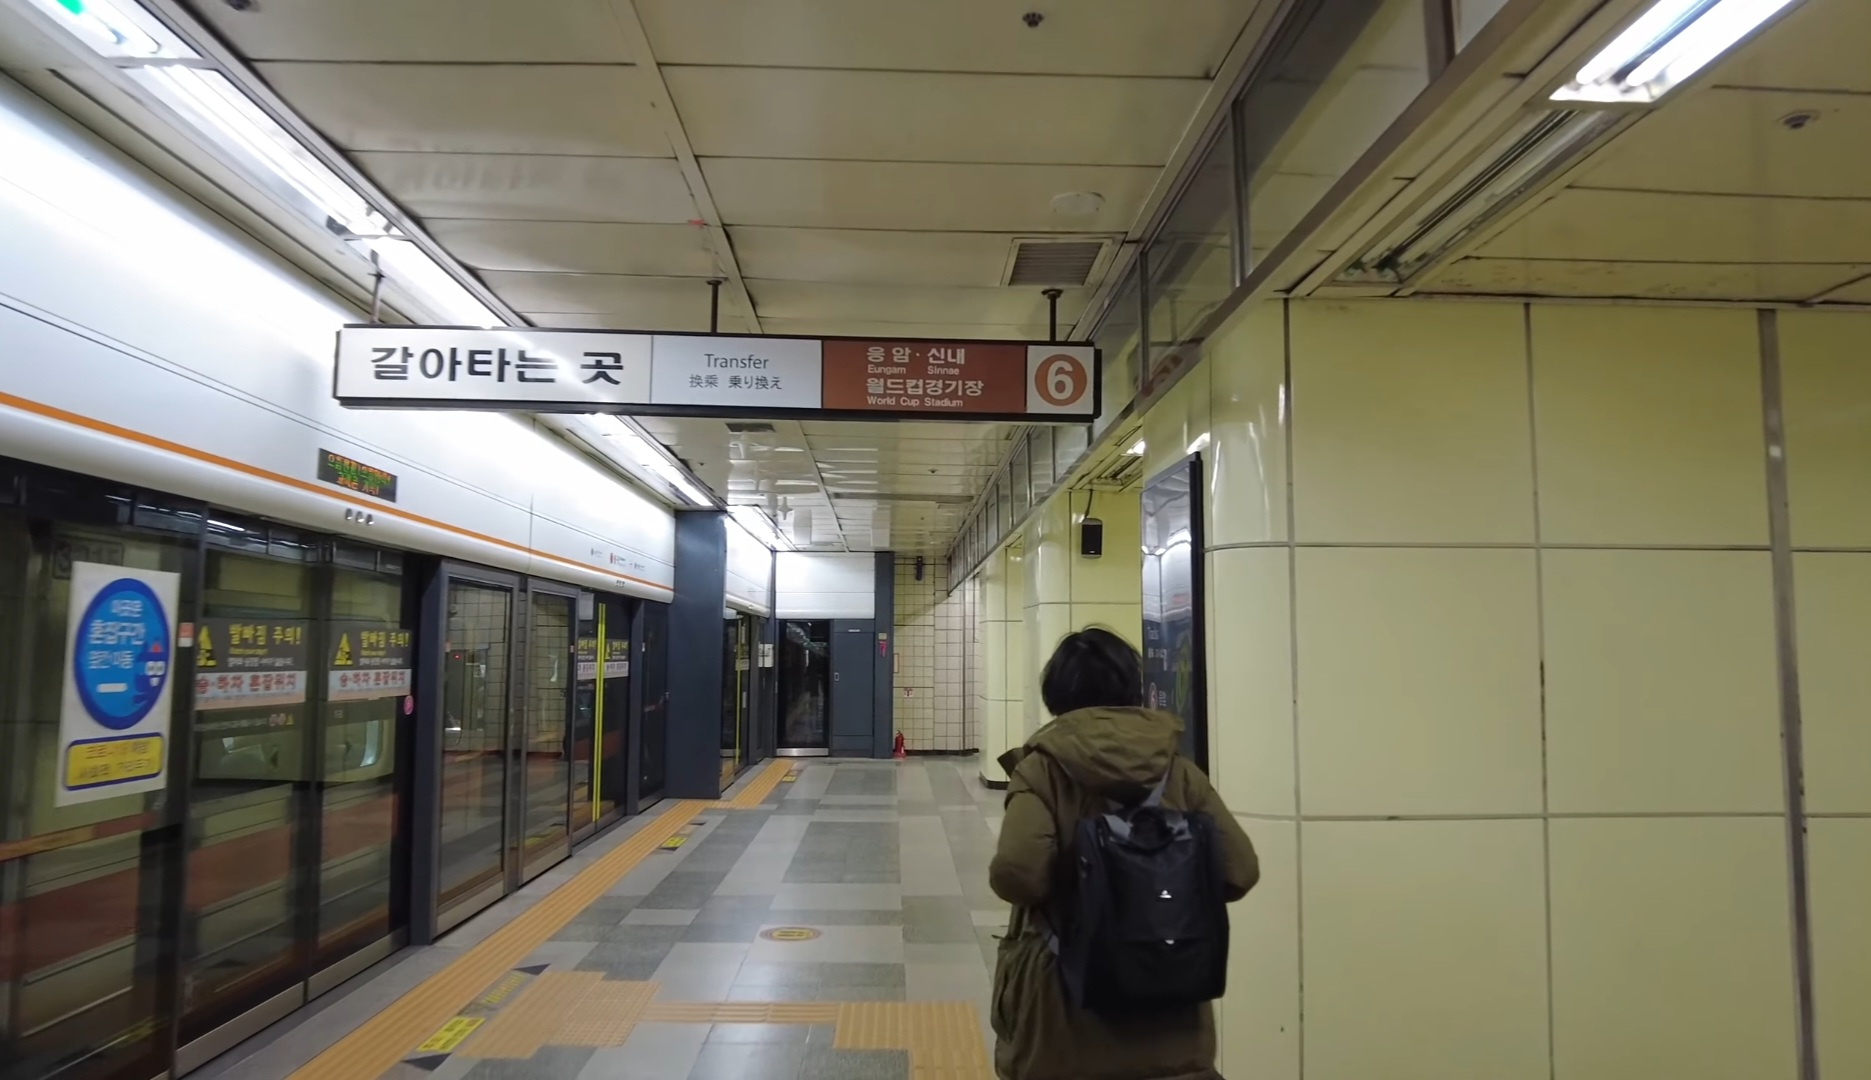signBoard: (321, 291, 1106, 432)
